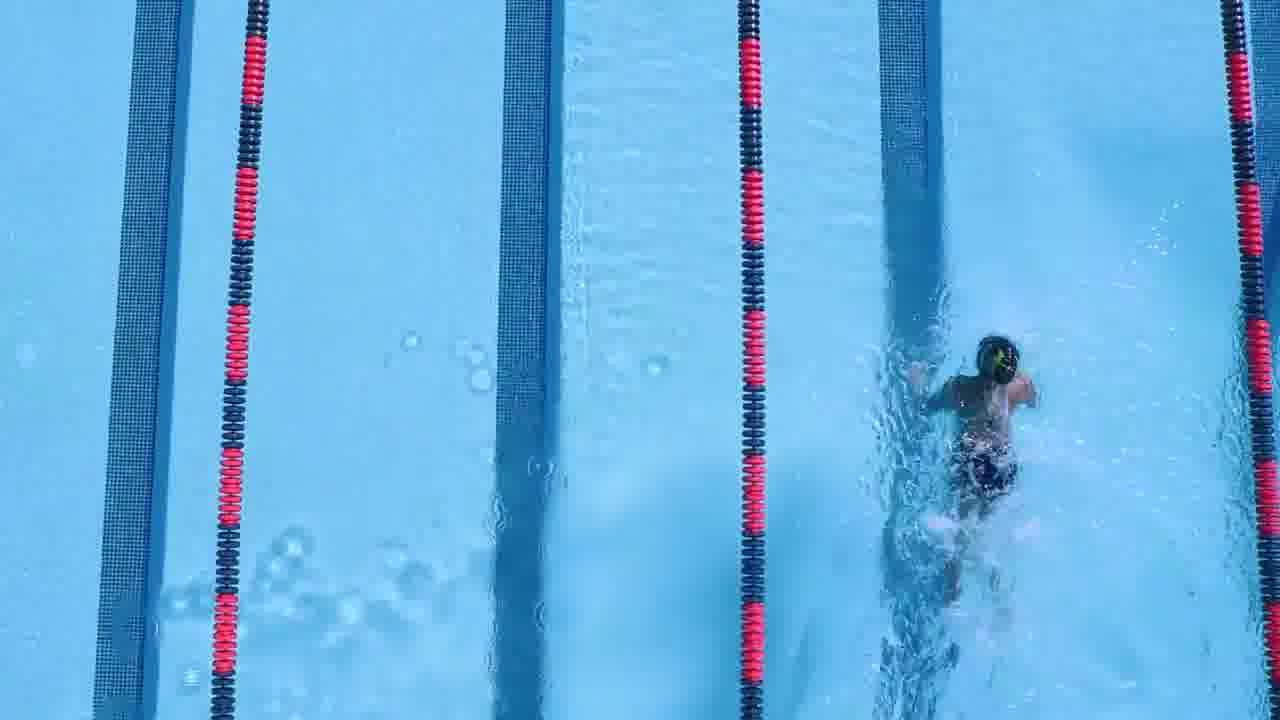swimmer: (898, 328, 1044, 520)
